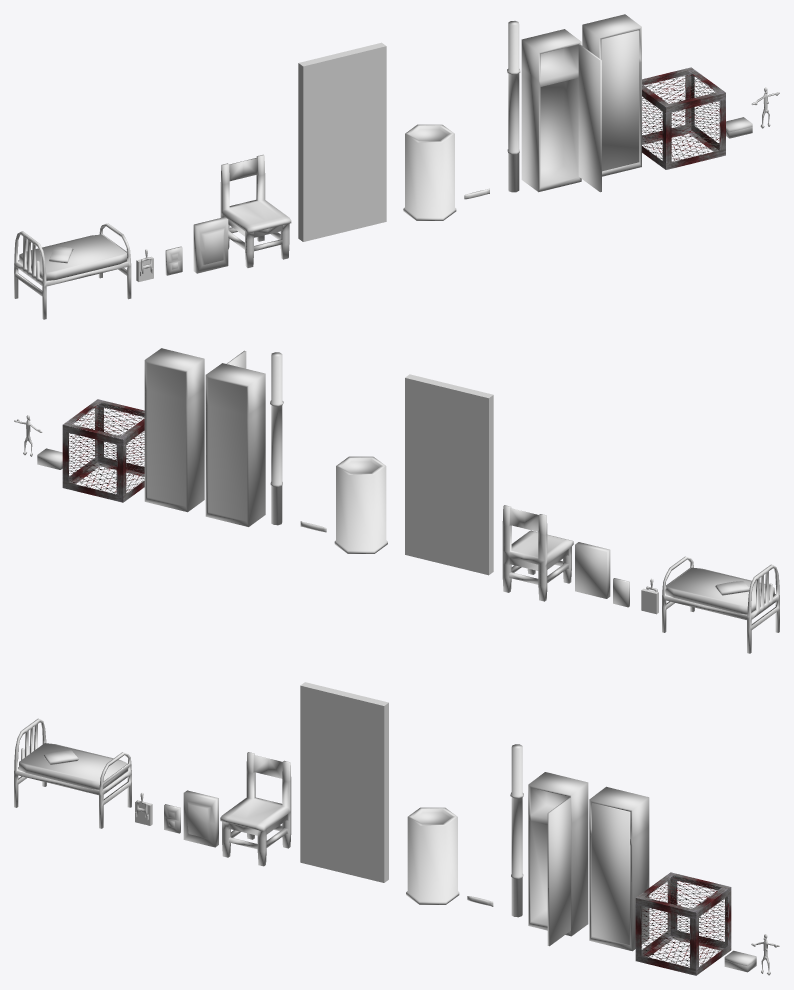
The model's file is HorrorProps.fbx.
The picture shows the model from 3 angles, top to bottom: view 1: azimuth 30°, elevation 25°; view 2: azimuth 150°, elevation 25°; view 3: azimuth 330°, elevation 25°; orthographic projection.
Parts seen in each view (by area): view 1: Door, Locker(open), Locker(closed), Wirebox, Barrel, Chair, Bed, Bed Frame, Pipe, PowerBox; view 2: Door, Locker(open), Locker(closed), Wirebox, Barrel, Chair, Bed, Bed Frame, Pipe, PowerBox; view 3: Door, Locker(open), Locker(closed), Wirebox, Barrel, Chair, Bed, Bed Frame, Pipe, PowerBox, Healthbox.
Part boxes in pixels (left/top/right/bottom): Door: left=298, top=42, right=386, bottom=241; Locker(open): left=521, top=29, right=601, bottom=192; Locker(closed): left=582, top=14, right=641, bottom=176; Wirebox: left=642, top=67, right=725, bottom=169; Barrel: left=403, top=124, right=456, bottom=220; Chair: left=220, top=154, right=291, bottom=267; Bed: left=19, top=234, right=126, bottom=280; Bed Frame: left=14, top=223, right=131, bottom=319; Pipe: left=507, top=21, right=520, bottom=192; PowerBox: left=193, top=217, right=228, bottom=273; Door: left=405, top=374, right=493, bottom=575; Locker(open): left=205, top=350, right=265, bottom=526; Locker(closed): left=144, top=348, right=204, bottom=512; Wirebox: left=62, top=399, right=144, bottom=502; Barrel: left=334, top=456, right=387, bottom=553; Chair: left=502, top=505, right=573, bottom=601; Bed: left=666, top=567, right=774, bottom=614; Bed Frame: left=662, top=556, right=779, bottom=653; Pipe: left=270, top=352, right=283, bottom=525; PowerBox: left=575, top=542, right=610, bottom=598; Door: left=300, top=682, right=388, bottom=882; Locker(open): left=528, top=772, right=588, bottom=946; Locker(closed): left=589, top=786, right=649, bottom=951; Wirebox: left=635, top=872, right=731, bottom=975; Barrel: left=406, top=807, right=459, bottom=904; Chair: left=220, top=752, right=291, bottom=866; Bed: left=19, top=743, right=127, bottom=789; Bed Frame: left=14, top=718, right=131, bottom=828; Pipe: left=510, top=744, right=523, bottom=917; PowerBox: left=183, top=790, right=218, bottom=847; Healthbox: left=724, top=950, right=756, bottom=972.
Bounding box in the file's own units: 5673 × 1295 × 596.
